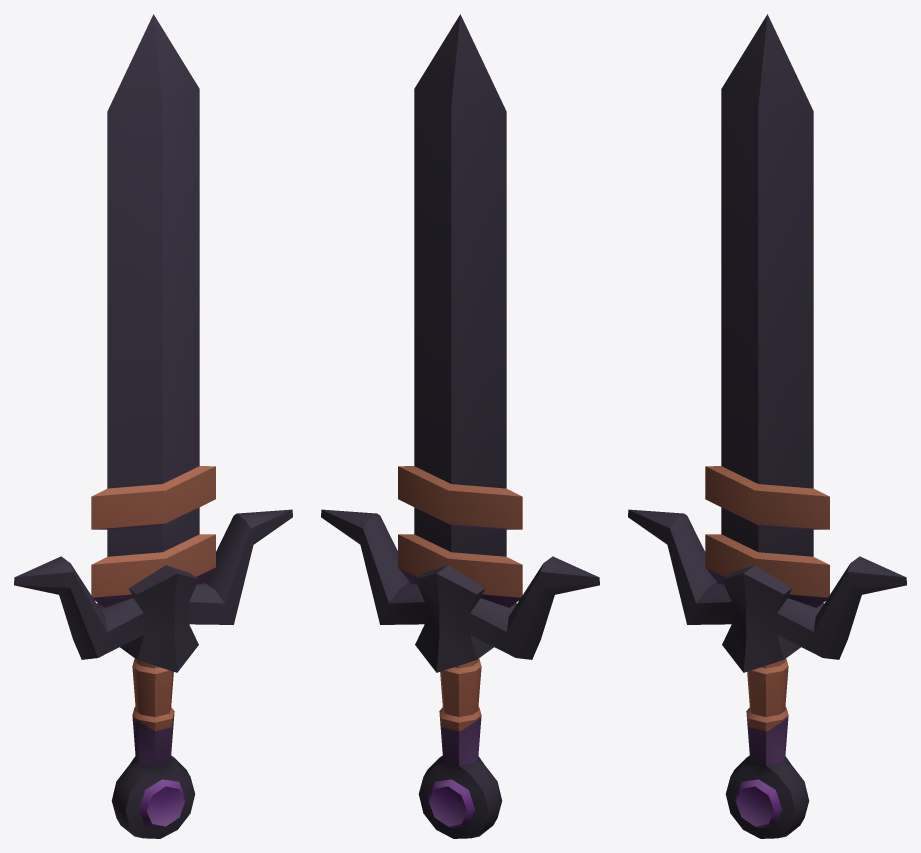
File: sword_2handed_dark.gltf
3 renders of one model, left to right at view 1: azimuth 30°, elevation 25°; view 2: azimuth 150°, elevation 25°; view 3: azimuth 330°, elevation 25°, orthographic.
Parts seen in each view (by area): view 1: sword_2handed; view 2: sword_2handed; view 3: sword_2handed.
Part boxes in pixels (bbox=[...]): sword_2handed: bbox=[14, 14, 292, 838]; sword_2handed: bbox=[321, 14, 599, 838]; sword_2handed: bbox=[628, 14, 906, 838].
Size of the model in its own units: 0.839 by 2.37 by 0.248.
Materials: 1 (1 with a texture image).
